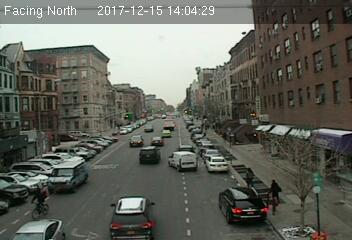bicycle: (29, 184, 51, 219)
car: (106, 194, 158, 240), (217, 186, 268, 223), (10, 219, 65, 240), (167, 151, 198, 172), (138, 146, 161, 163), (205, 156, 230, 171), (128, 135, 143, 145), (150, 137, 164, 147), (161, 129, 172, 136)
pedestrian: (269, 174, 281, 204), (244, 167, 257, 189)
truck: (46, 160, 90, 193)
